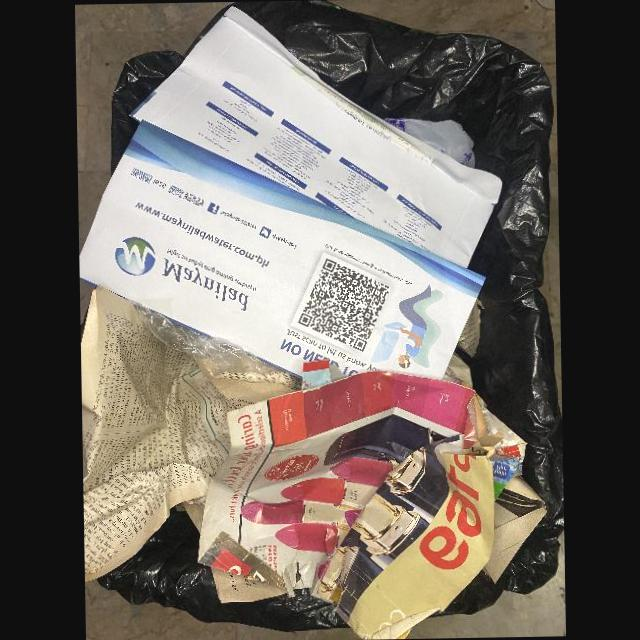giay: (79, 118, 485, 424), (128, 5, 502, 302), (197, 369, 503, 639), (80, 289, 297, 581)
